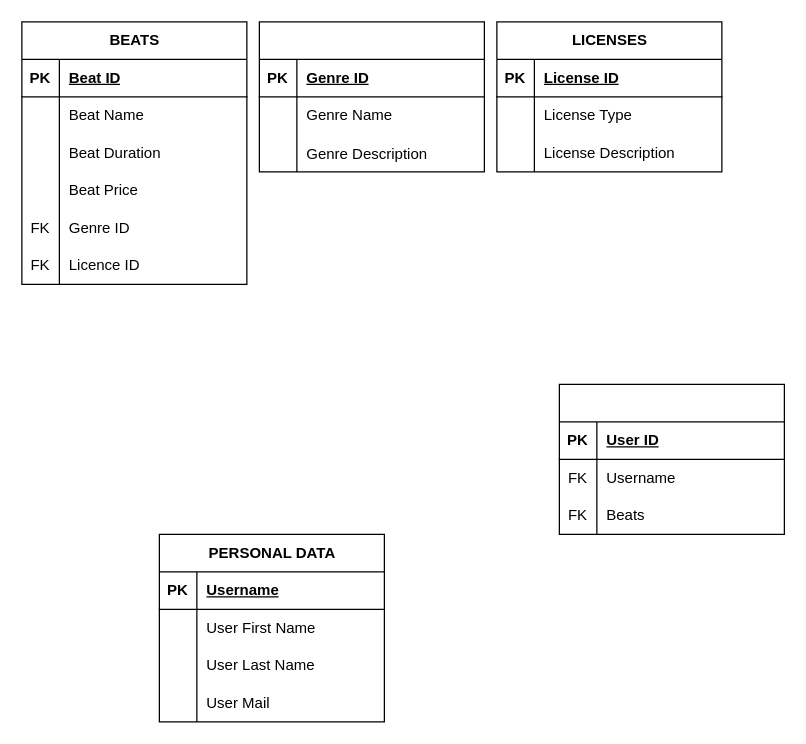
The diagram is 806 pixels wide and 744 high, and some of its shapes have lost their labels. The shapes that lost their labels are listed below. From the top down, each one's box as (x1, y1, x2, y2) in pixels, then its label:
(258, 21, 484, 172): GENRES
(558, 383, 784, 534): USERS
